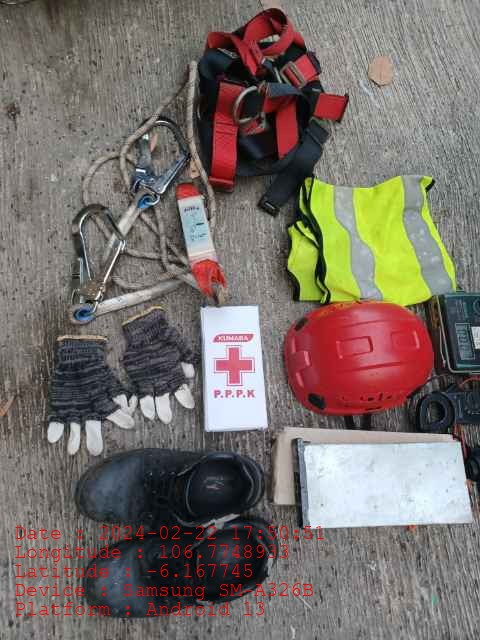HELM: (283, 306, 432, 414)
SARUNG TANGAN: (47, 336, 129, 455)
TAMBANG_SLING: (70, 69, 221, 299)
